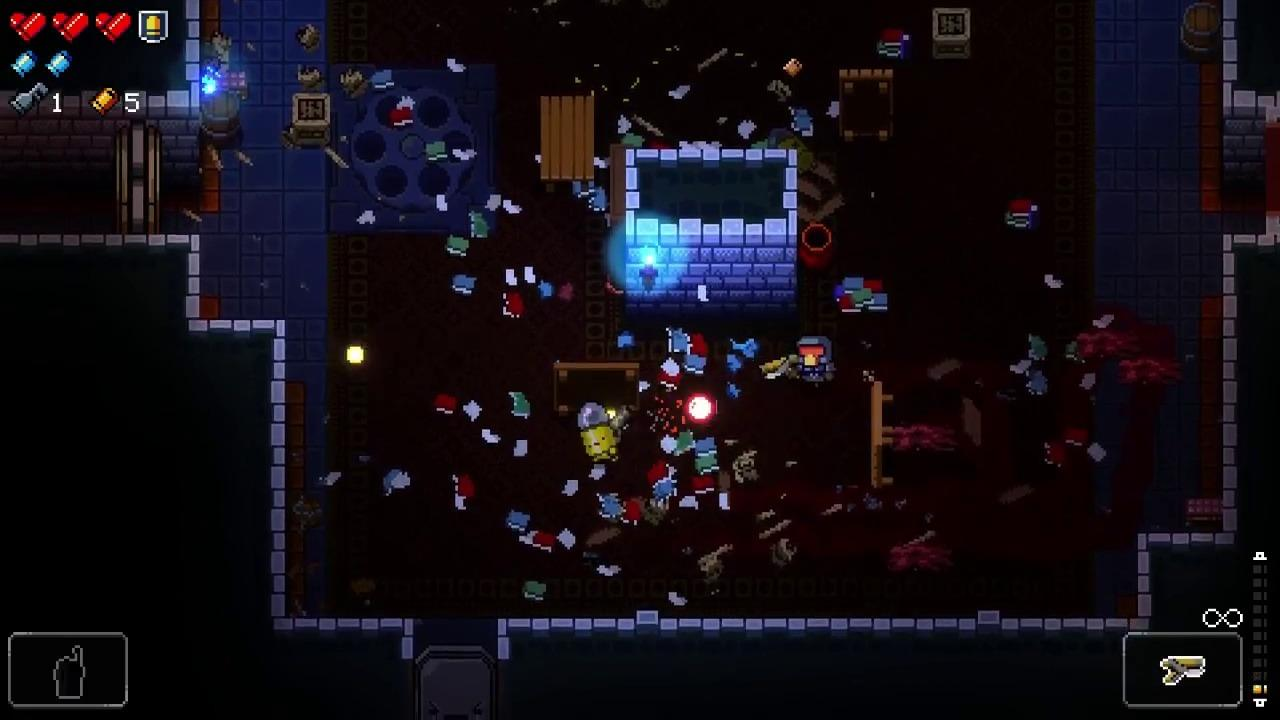bullet: (684, 394, 717, 426)
bullet_kin: (577, 402, 622, 467)
locked_door: (414, 645, 495, 720), (116, 120, 162, 236)
player: (796, 334, 836, 388)
table: (540, 96, 594, 196), (554, 362, 641, 416), (838, 70, 895, 143), (870, 382, 895, 490)
teleporter: (327, 63, 499, 235)
wall: (625, 148, 799, 316)
